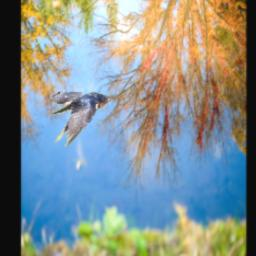Swallow: (52, 92, 110, 147)
